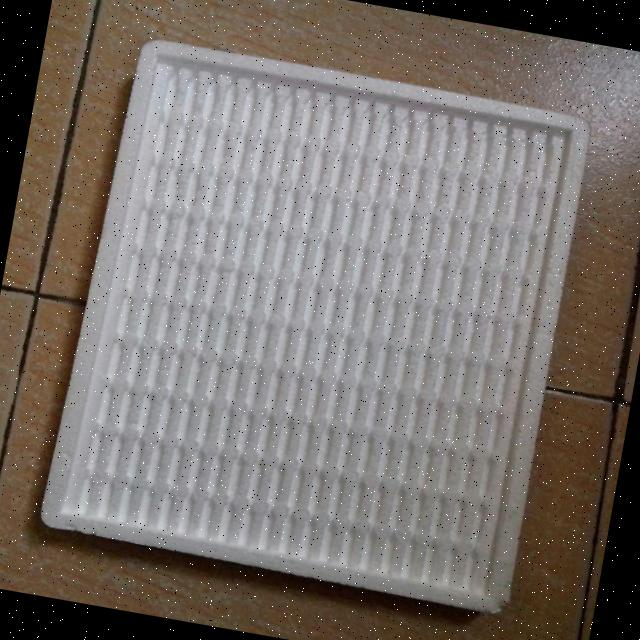styrofoam: (36, 31, 596, 617)
